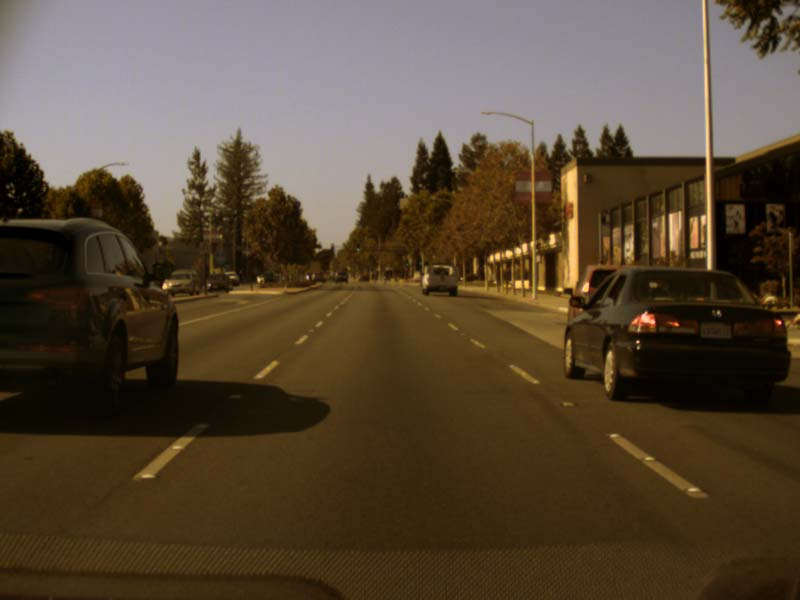Green: (415, 255, 421, 269), (356, 244, 359, 250)
